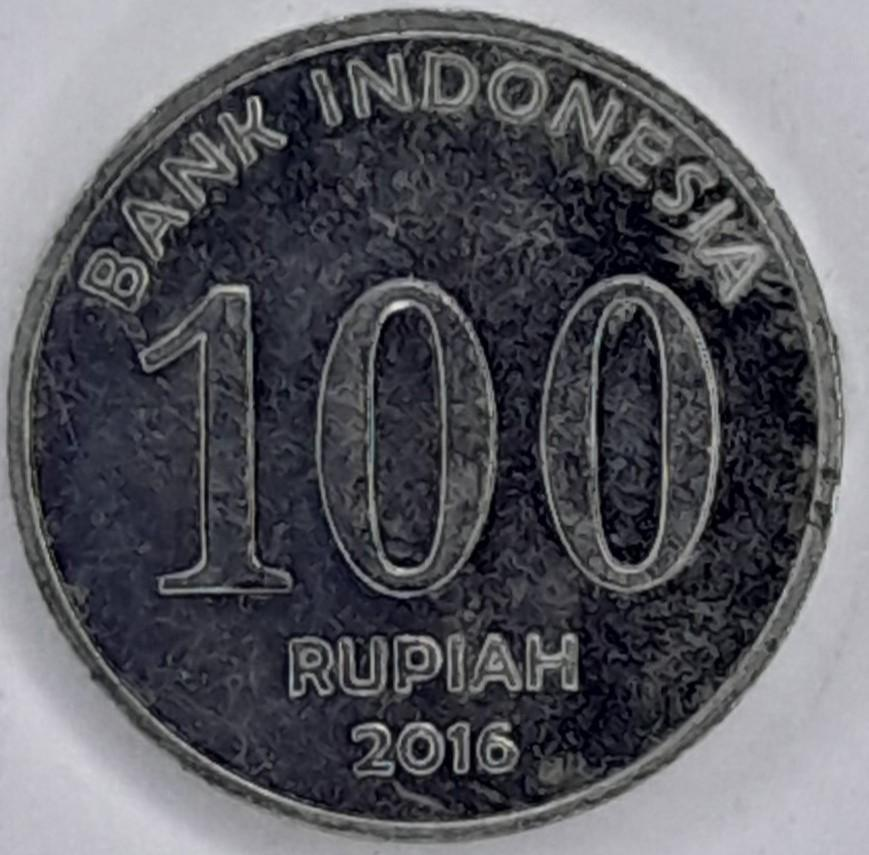coin_100_e2016: (2, 2, 850, 844)
